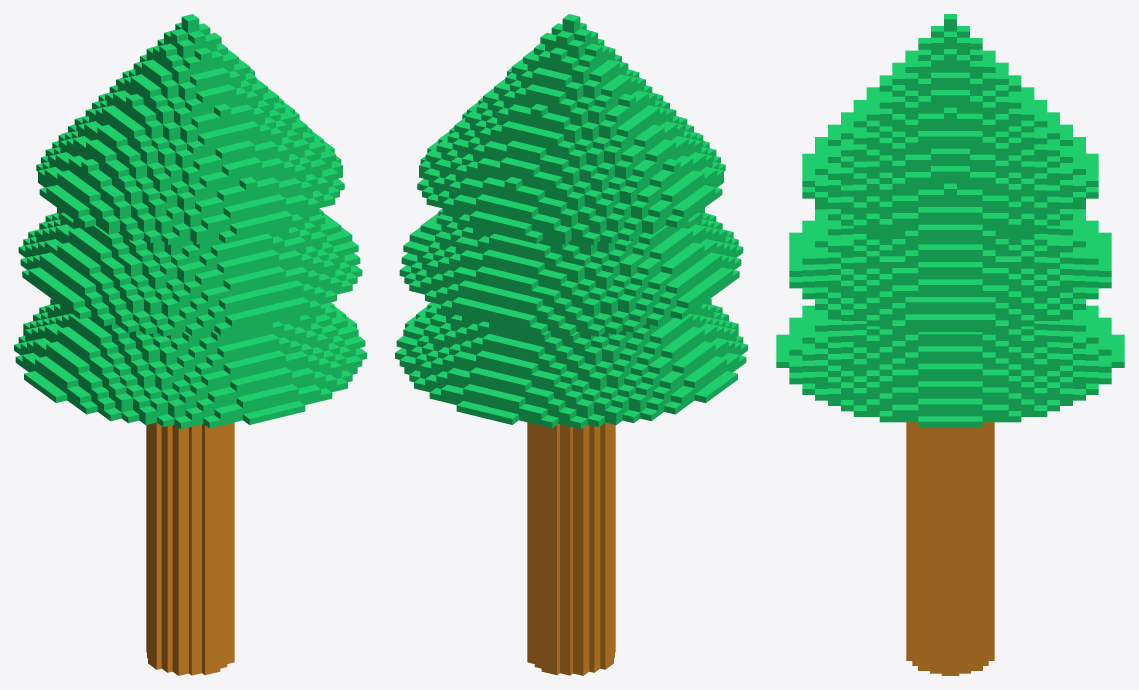
The picture shows the model from 3 angles, left to right: view 1: azimuth 30°, elevation 25°; view 2: azimuth 150°, elevation 25°; view 3: azimuth 270°, elevation 25°; orthographic projection.
Visible parts, largest first — view 1: 锥体.001, 柱体; view 2: 锥体.001, 柱体; view 3: 锥体.001, 柱体.
Part boxes in pixels (left/top/right/bottom): 锥体.001: left=14, top=14, right=366, bottom=428; 柱体: left=146, top=422, right=234, bottom=675; 锥体.001: left=395, top=14, right=747, bottom=428; 柱体: left=527, top=422, right=615, bottom=675; 锥体.001: left=776, top=14, right=1124, bottom=427; 柱体: left=906, top=422, right=994, bottom=675.
Size of the model in its own units: 595 by 1208 by 595.
